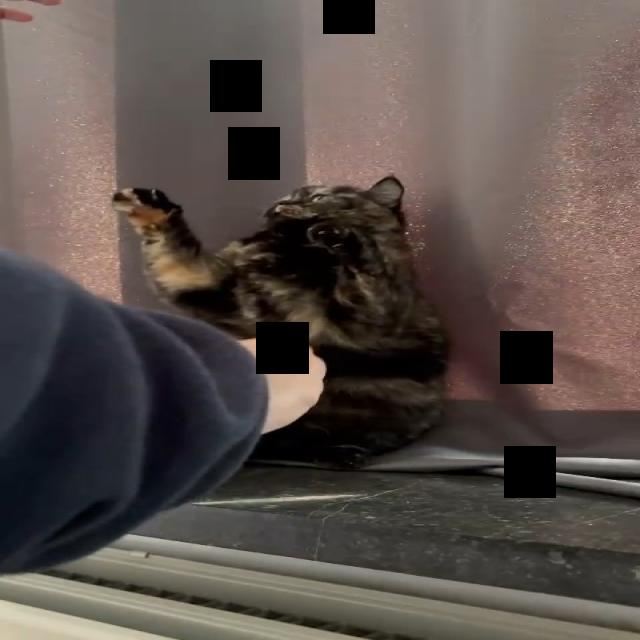authorized: (111, 174, 452, 470)
